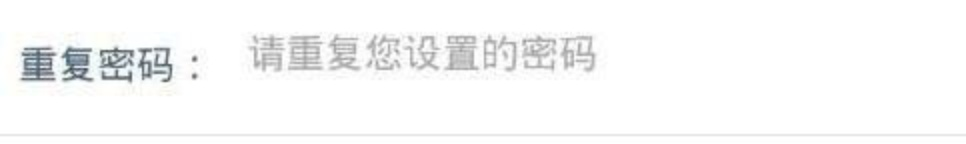EditText: (1, 1, 965, 143)
